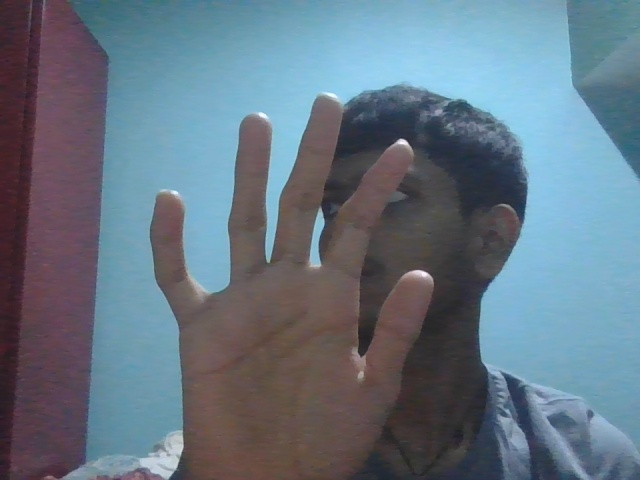hello: (119, 86, 467, 480)
